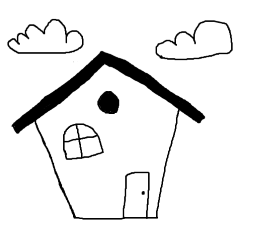closed_window: (63, 123, 103, 160)
clouds: (155, 19, 233, 61), (7, 17, 84, 54)
door: (118, 163, 154, 224)
shaded_roof: (11, 47, 206, 136)
wall: (32, 102, 186, 224)
